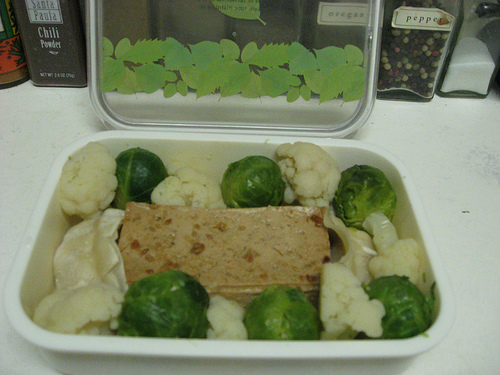cauliflower: (269, 139, 344, 217), (56, 141, 119, 222)
